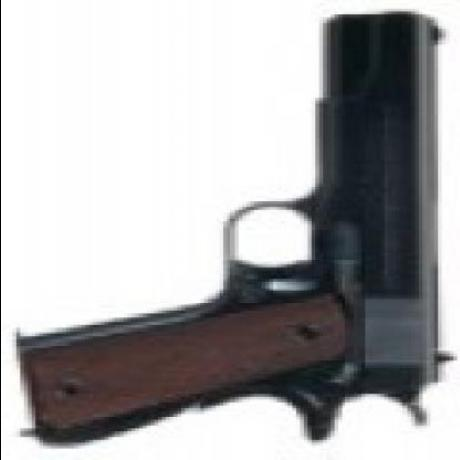weapon: (17, 5, 455, 446)
